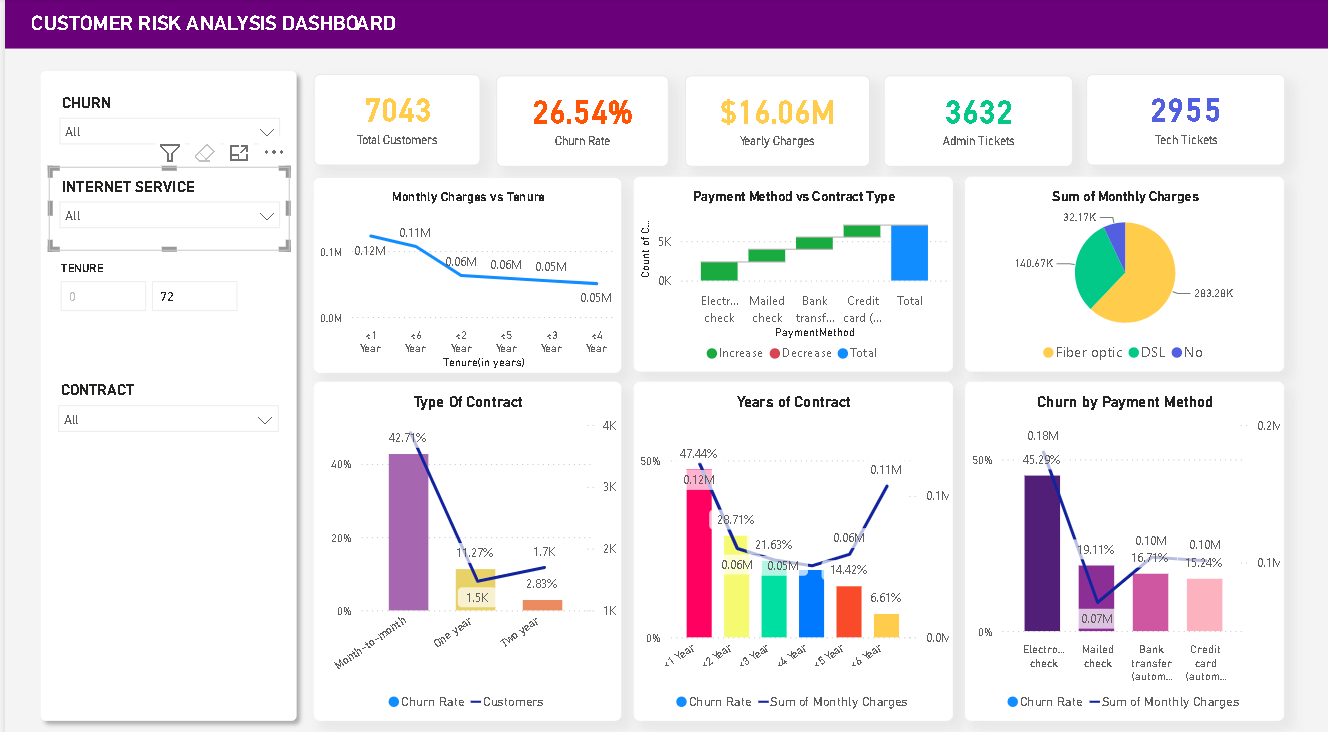

This screenshot's page, from the dashboard's own definition file:
{"tool":"powerbi","page":{"name":"Customer Risk Analysis","canvas":[1280,720],"ordinal":1},"visuals":[{"type":"shape","box":[0,0,1280,49],"z":0},{"type":"textbox","box":[21,8,438,33],"z":1000},{"type":"shape","box":[25,61,265,645],"z":2000},{"type":"slicer","fields":{"Values":["Churn.Churn"]},"box":[42,82,233,81],"z":3000},{"type":"slicer","fields":{"Values":["Churn.InternetService"]},"box":[42,163,233,81],"z":4000},{"type":"slicer","fields":{"Values":["Churn.tenure"]},"box":[41,244,233,97],"z":5000},{"type":"slicer","fields":{"Values":["Churn.Contract"]},"box":[41,360,233,81],"z":6000},{"type":"card","fields":{"Values":["CountNonNull(01 Churn-Dataset.customerID)"]},"box":[298,74,161,88],"z":7000},{"type":"card","fields":{"Values":["Churn.% Churn Rate"]},"box":[474,75,166,88],"z":8000},{"type":"card","fields":{"Values":["Sum(Churn.TotalCharges)"]},"box":[656,75,178,88],"z":9000},{"type":"card","fields":{"Values":["Sum(Churn.numAdminTickets)"]},"box":[848,75,182,88],"z":10000},{"type":"card","fields":{"Values":["Sum(Churn.numTechTickets)"]},"box":[1043,74,192,88],"z":11000},{"type":"lineChart","title":"Monthly Charges vs Tenure","fields":{"Category":["Churn.Tenure(in years)"],"Y":["Sum(Churn.MonthlyCharges)"]},"box":[298,173.7,297,188],"z":12000},{"type":"waterfallChart","title":"Payment Method vs Contract Type ","fields":{"Category":["Churn.PaymentMethod"],"Y":["CountNonNull(Churn.Contract)"]},"box":[607,172,308,188],"z":13000},{"type":"pieChart","title":"Sum of Monthly Charges","fields":{"Category":["Churn.InternetService"],"Y":["Sum(Churn.MonthlyCharges)"]},"box":[927,172,308,188],"z":14000},{"type":"lineStackedColumnComboChart","title":"Type Of Contract","fields":{"Category":["Churn.Contract"],"Y":["Churn.% Churn Rate"],"Y2":["CountNonNull(Churn.customerID)"]},"box":[298,370,297,327],"z":15000},{"type":"lineStackedColumnComboChart","title":"Years of Contract","fields":{"Category":["Churn.Tenure(in years)"],"Y":["Churn.% Churn Rate"],"Y2":["Sum(Churn.MonthlyCharges)"]},"box":[607,370,308,327],"z":16000},{"type":"lineStackedColumnComboChart","title":"Churn by Payment Method","fields":{"Category":["Churn.PaymentMethod"],"Y":["Churn.% Churn Rate"],"Y2":["Sum(Churn.MonthlyCharges)"]},"box":[927,370,308,327],"z":17000}]}

Visuals, with their boxes in screenshot pixels (x1, y1, x2, y2), scaled from the page's 1280x720 canvas onto the 1328x732 screenshot:
shape: bbox=[0, 0, 1327, 50]
textbox: bbox=[22, 8, 476, 42]
shape: bbox=[26, 62, 301, 718]
slicer - Churn.Churn: bbox=[44, 83, 285, 166]
slicer - Churn.InternetService: bbox=[44, 166, 285, 248]
slicer - Churn.tenure: bbox=[43, 248, 284, 347]
slicer - Churn.Contract: bbox=[43, 366, 284, 448]
card - CountNonNull(01 Churn-Dataset.customerID): bbox=[309, 75, 476, 165]
card - Churn.% Churn Rate: bbox=[492, 76, 664, 166]
card - Sum(Churn.TotalCharges): bbox=[681, 76, 865, 166]
card - Sum(Churn.numAdminTickets): bbox=[880, 76, 1069, 166]
card - Sum(Churn.numTechTickets): bbox=[1082, 75, 1281, 165]
"Monthly Charges vs Tenure" lineChart: bbox=[309, 177, 617, 368]
"Payment Method vs Contract Type " waterfallChart: bbox=[630, 175, 949, 366]
"Sum of Monthly Charges" pieChart: bbox=[962, 175, 1281, 366]
"Type Of Contract" lineStackedColumnComboChart: bbox=[309, 376, 617, 709]
"Years of Contract" lineStackedColumnComboChart: bbox=[630, 376, 949, 709]
"Churn by Payment Method" lineStackedColumnComboChart: bbox=[962, 376, 1281, 709]
